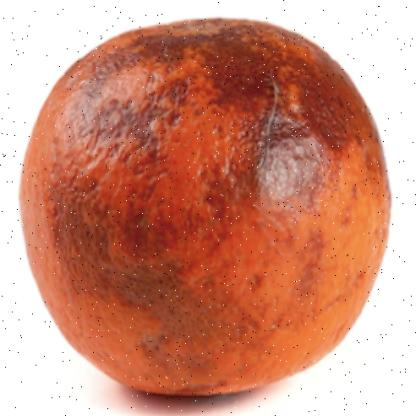rotten: (22, 20, 391, 396)
